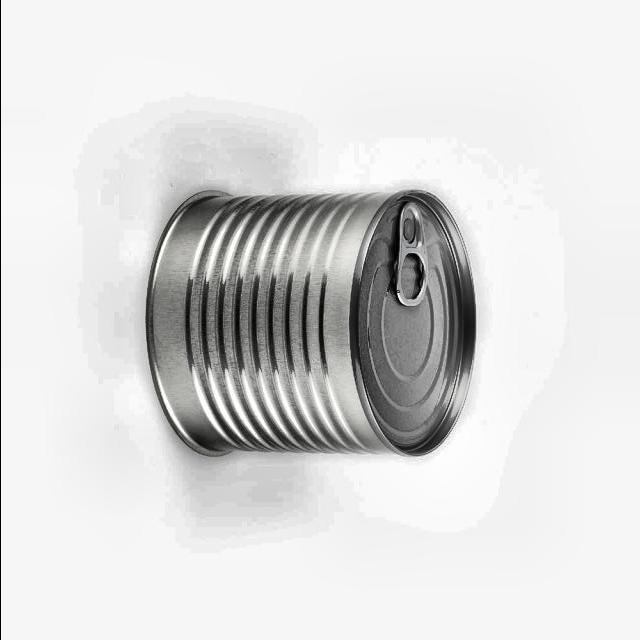litter: (132, 183, 493, 467)
